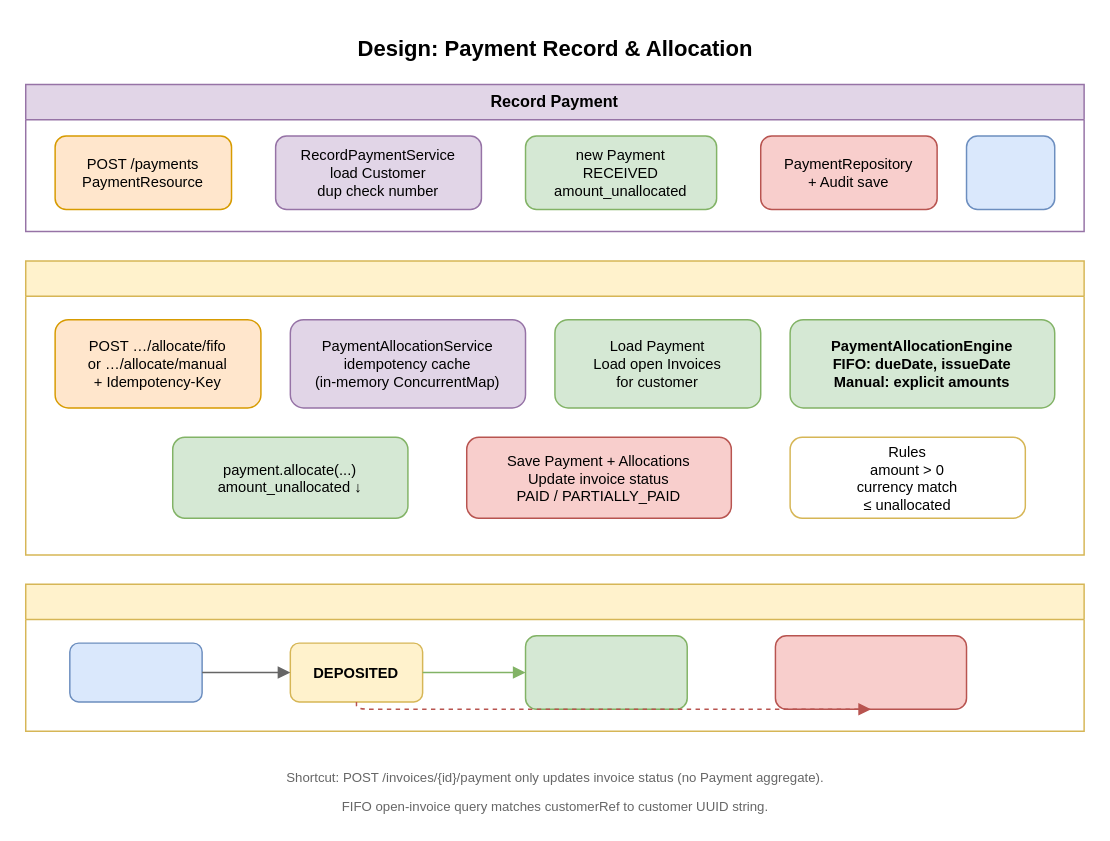
Image size: 1110x841. Some labels were removed from this diagram. Here are the shapes that lost their labels. From the top down, the box of each, then its label:
(965, 135, 1055, 209): 201 {id, number}
(24, 259, 1084, 555): Allocation (FIFO or Manual)
(68, 642, 202, 702): RECEIVED
(24, 583, 1084, 731): Cheque parallel path (instrument lifecycle)
(524, 634, 687, 709): CLEARED Dr Bank / Cr AR
(774, 634, 967, 709): BOUNCED reverse + reopen inv
